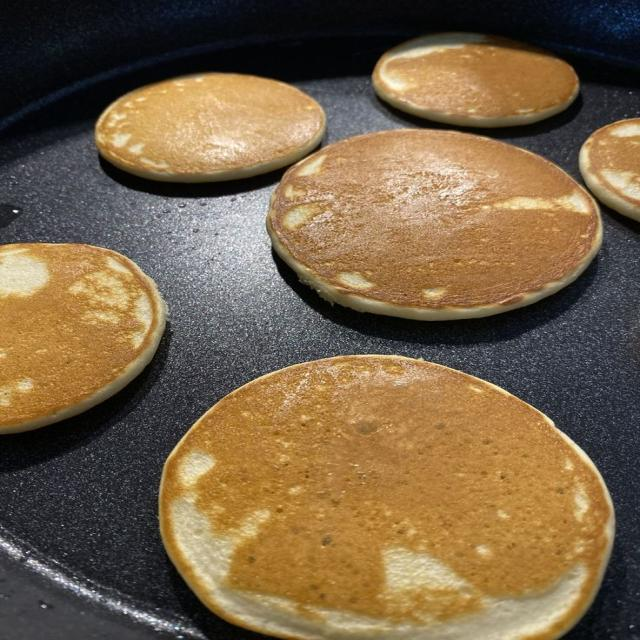pancake: (160, 356, 613, 639), (267, 130, 601, 320), (0, 244, 166, 433), (95, 74, 326, 182), (373, 33, 579, 127), (580, 119, 639, 220)
